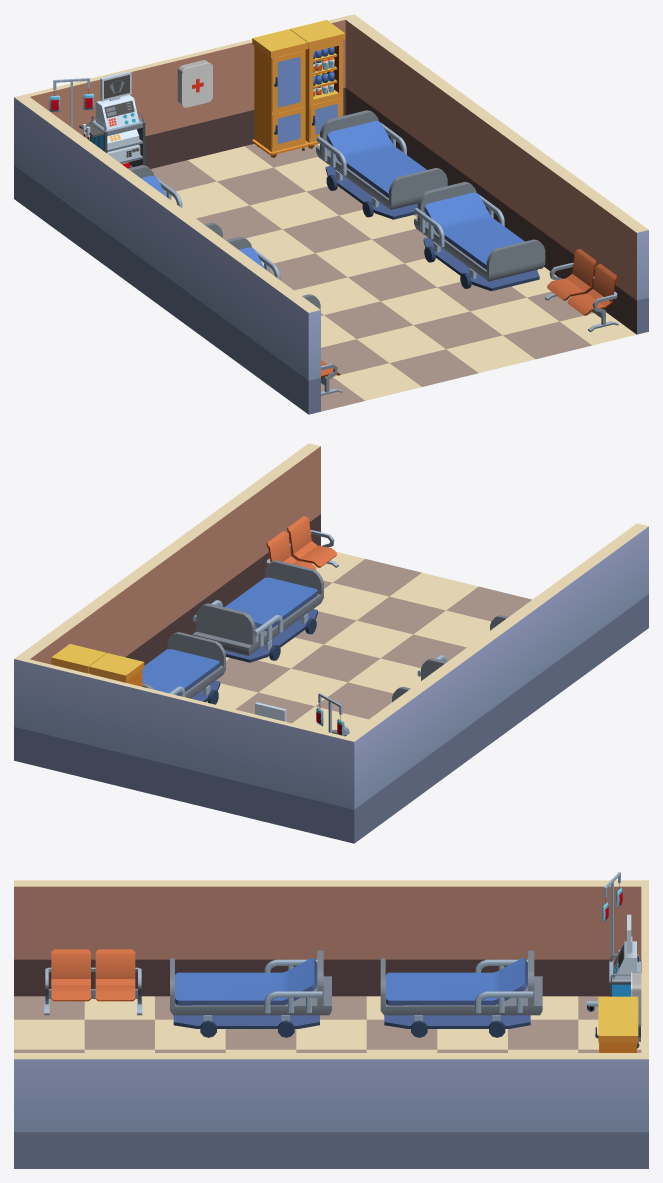
The model's file is Hospital.fbx.
3 views of the same model, one above another, from view 1: azimuth 30°, elevation 25°; view 2: azimuth 150°, elevation 25°; view 3: azimuth 270°, elevation 25° (orthographic). The views are drawn at different scales.
Parts seen in each view (by area): view 1: Hospital15, Hospital5, Hospital1, Hospital3, Hospital17, Hospital18, Hospital8, Hospital4, Hospital2, Hospital13, Hospital11, Hospital10 (+3 smaller); view 2: Hospital3, Hospital5, Hospital15, Hospital1, Hospital17, Hospital18, Hospital13, Hospital8, Hospital2; view 3: Hospital1, Hospital5, Hospital15, Hospital14, Hospital16, Hospital19, Hospital4, Hospital2, Hospital3, Hospital8, Hospital12.
Part boxes in pixels (x1,y1,x2,y2): Hospital15: [151, 143, 636, 411]; Hospital5: [17, 94, 320, 414]; Hospital1: [345, 17, 648, 334]; Hospital3: [14, 14, 357, 201]; Hospital17: [414, 182, 545, 291]; Hospital18: [316, 110, 447, 219]; Hospital8: [252, 29, 308, 157]; Hospital4: [79, 71, 145, 167]; Hospital2: [290, 20, 345, 148]; Hospital13: [545, 249, 618, 331]; Hospital11: [272, 51, 304, 113]; Hospital10: [177, 60, 212, 107]; Hospital3: [14, 656, 357, 843]; Hospital5: [342, 523, 648, 843]; Hospital15: [206, 551, 531, 732]; Hospital1: [18, 443, 320, 665]; Hospital17: [192, 560, 323, 662]; Hospital18: [142, 632, 225, 704]; Hospital13: [266, 516, 338, 569]; Hospital8: [89, 653, 144, 686]; Hospital2: [51, 644, 106, 674]; Hospital1: [14, 1053, 648, 1168]; Hospital5: [14, 880, 648, 996]; Hospital15: [14, 996, 641, 1052]; Hospital14: [380, 950, 542, 1037]; Hospital16: [170, 950, 331, 1037]; Hospital19: [44, 949, 142, 1015]; Hospital4: [609, 914, 640, 1048]; Hospital2: [598, 1016, 638, 1052]; Hospital3: [641, 880, 648, 1059]; Hospital8: [598, 996, 638, 1016]; Hospital12: [586, 872, 622, 1011].
Size of the model in its own units: 700 by 240 by 1050.
